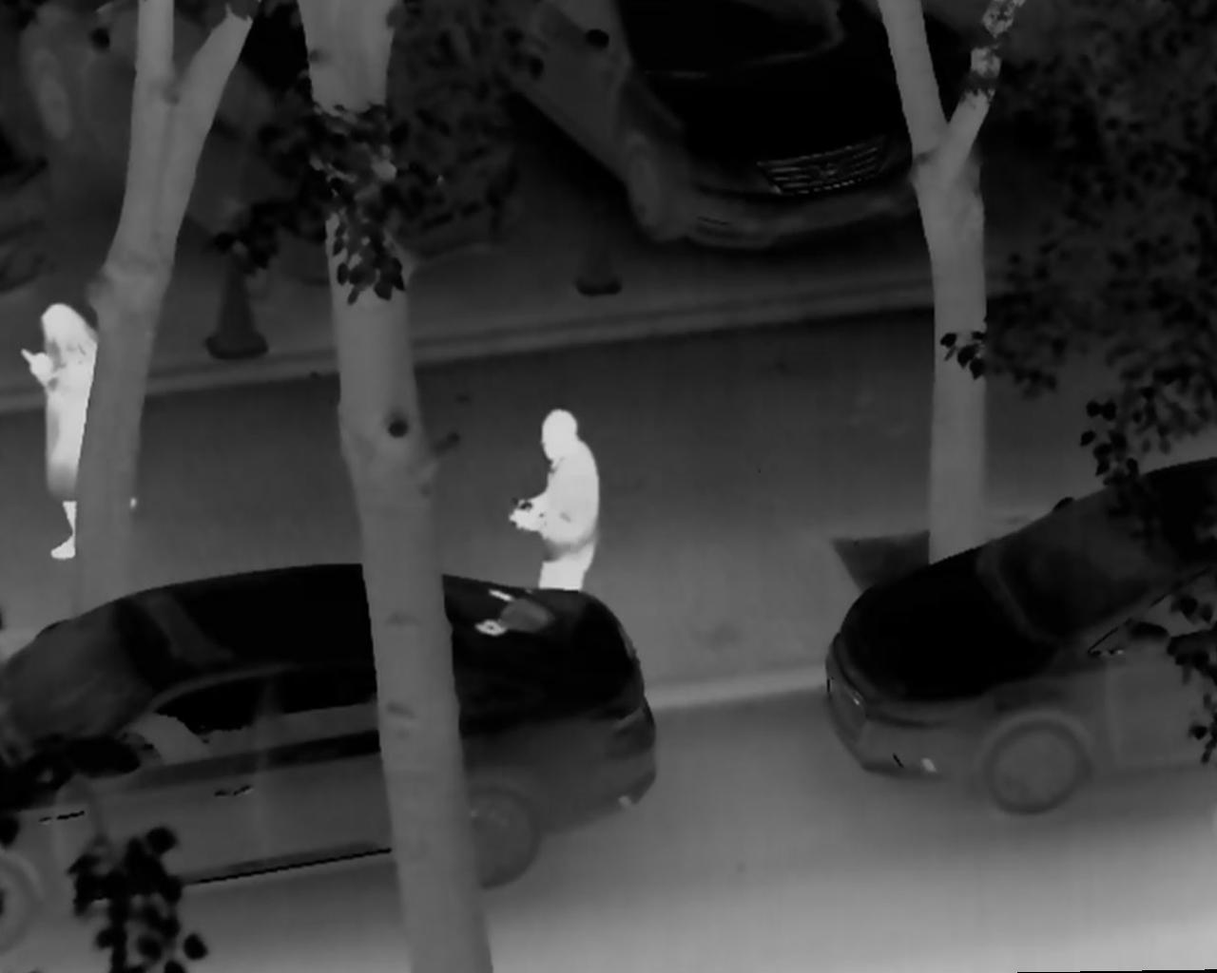person: (24, 296, 139, 565), (504, 404, 602, 614)
